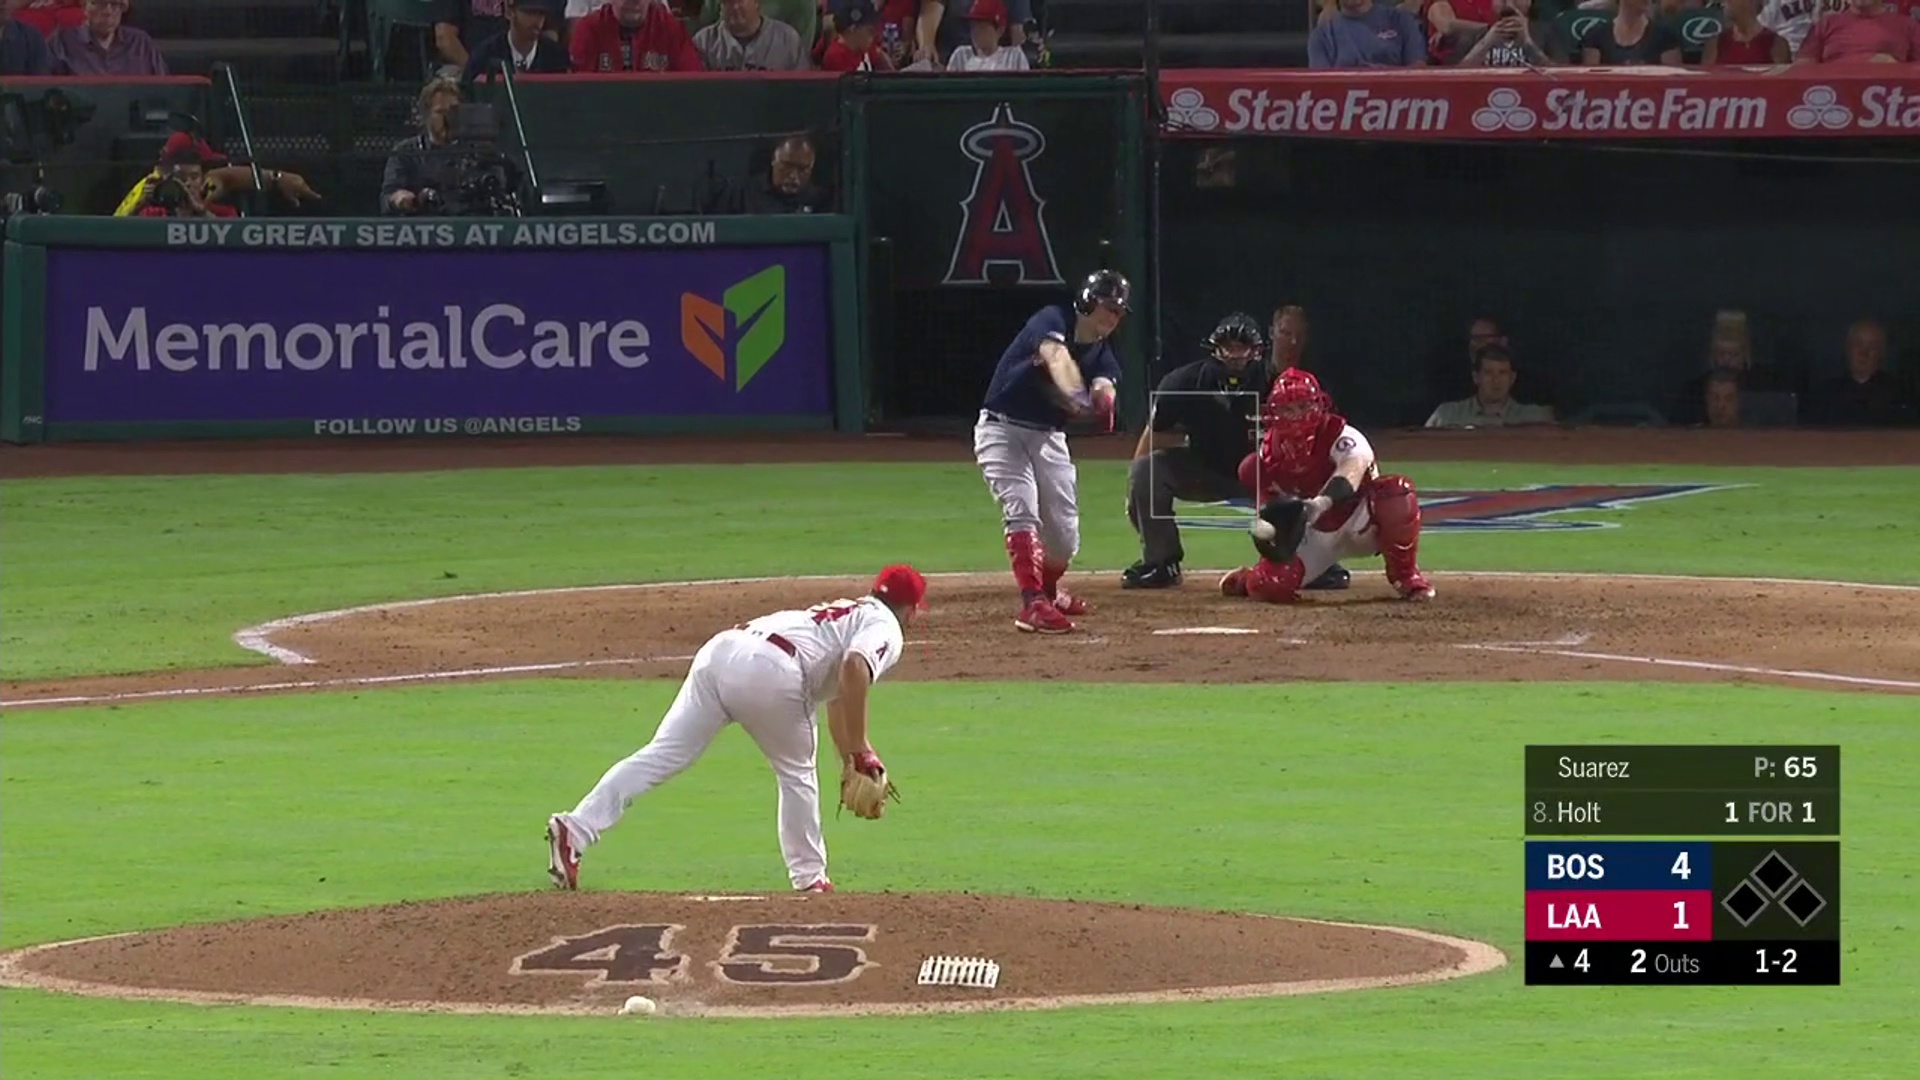baseball: (1250, 520, 1274, 539)
